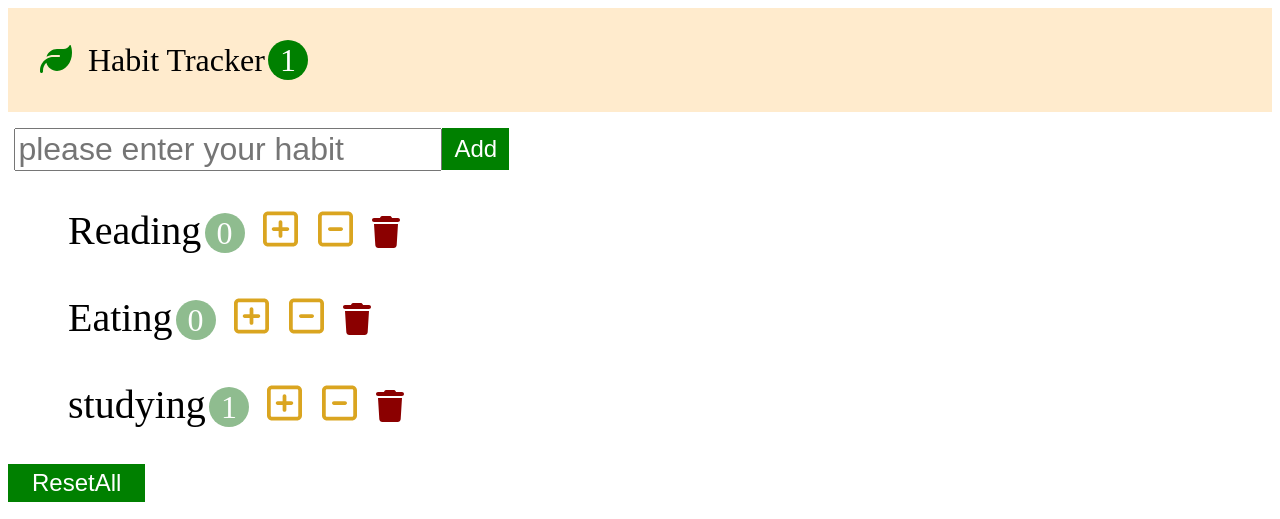
Test: App › App Component › counts only active habits
What coordinates should you click on to do the following:
click the button titled "increment" in the row of "Reading"
I would click on:
 (280, 230)
Its box is [256,207,304,254].
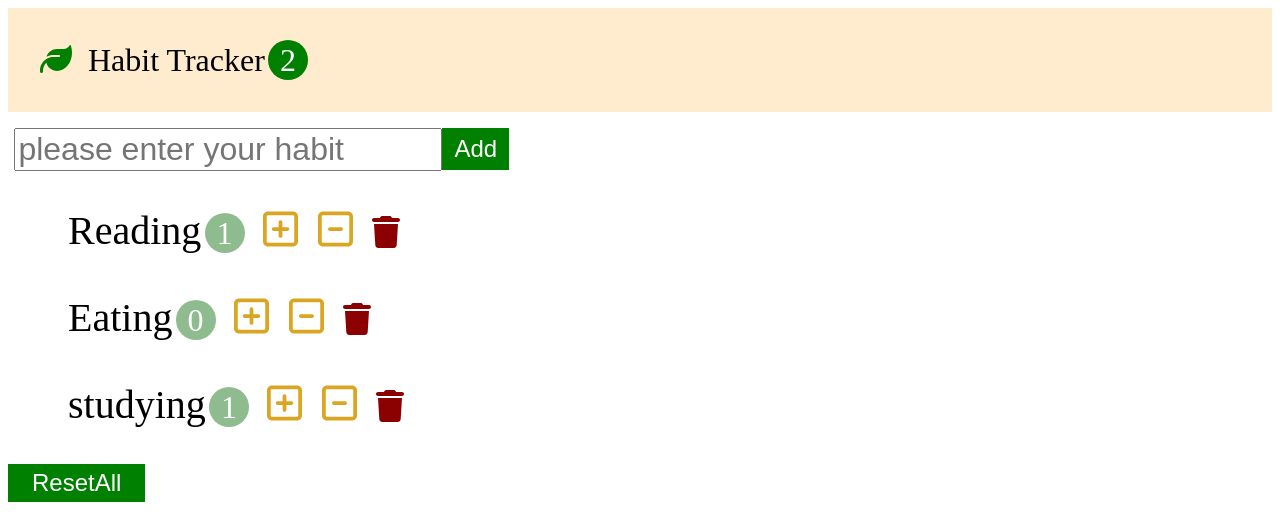
Expected: the text titled "total-count" reads "2", [280,42,296,78]
